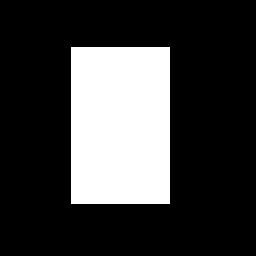person: (71, 47, 169, 203)
